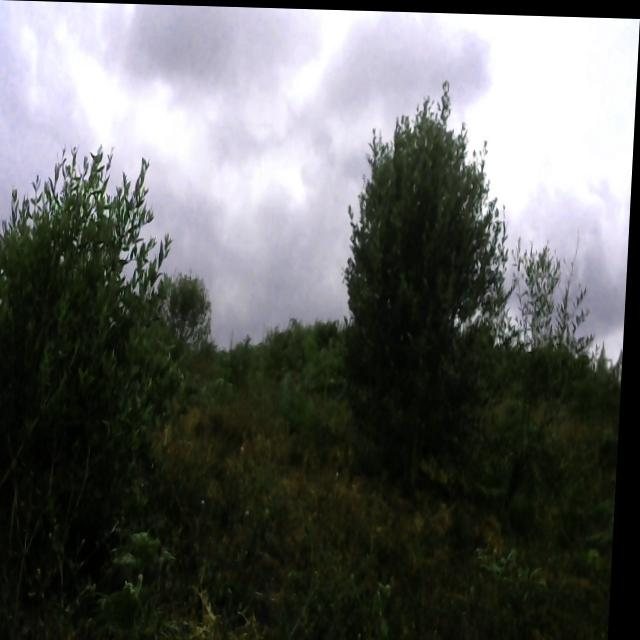other: (334, 70, 520, 491), (0, 136, 188, 552)
